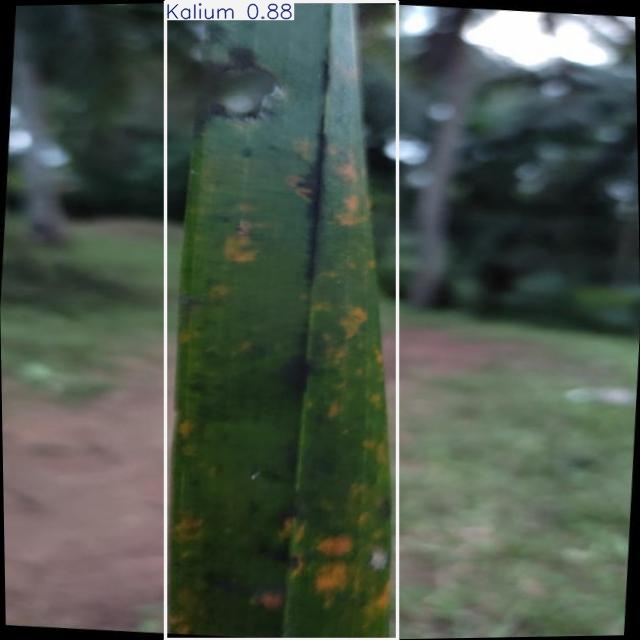Kalium: (165, 2, 398, 640)
